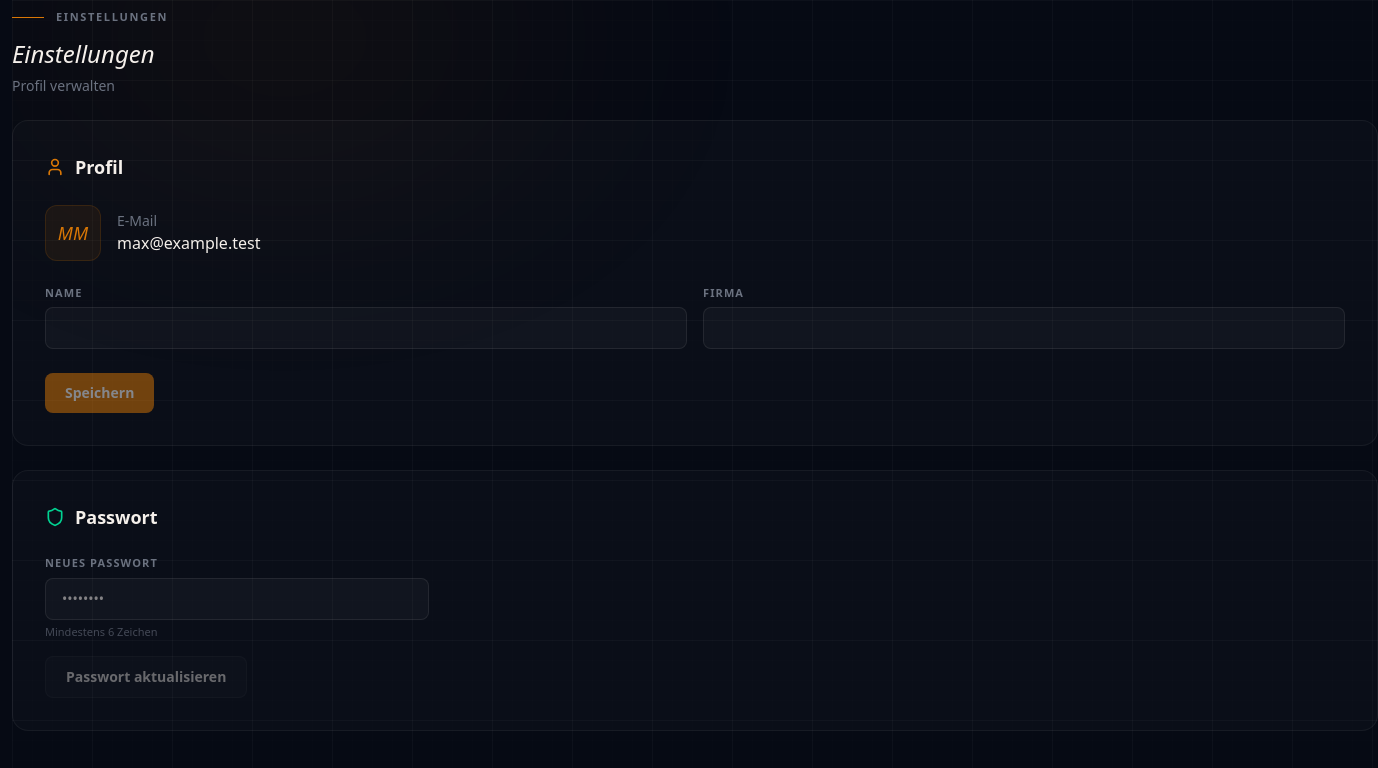
Scenario: settings password feedback › does not show stale success or clear newer edits after a pending password update resolves
This screenshot has width=1378, height=768.
Type "123456" into the password field with placeholder "••••••••" at (237, 599), box [45,578,429,620]
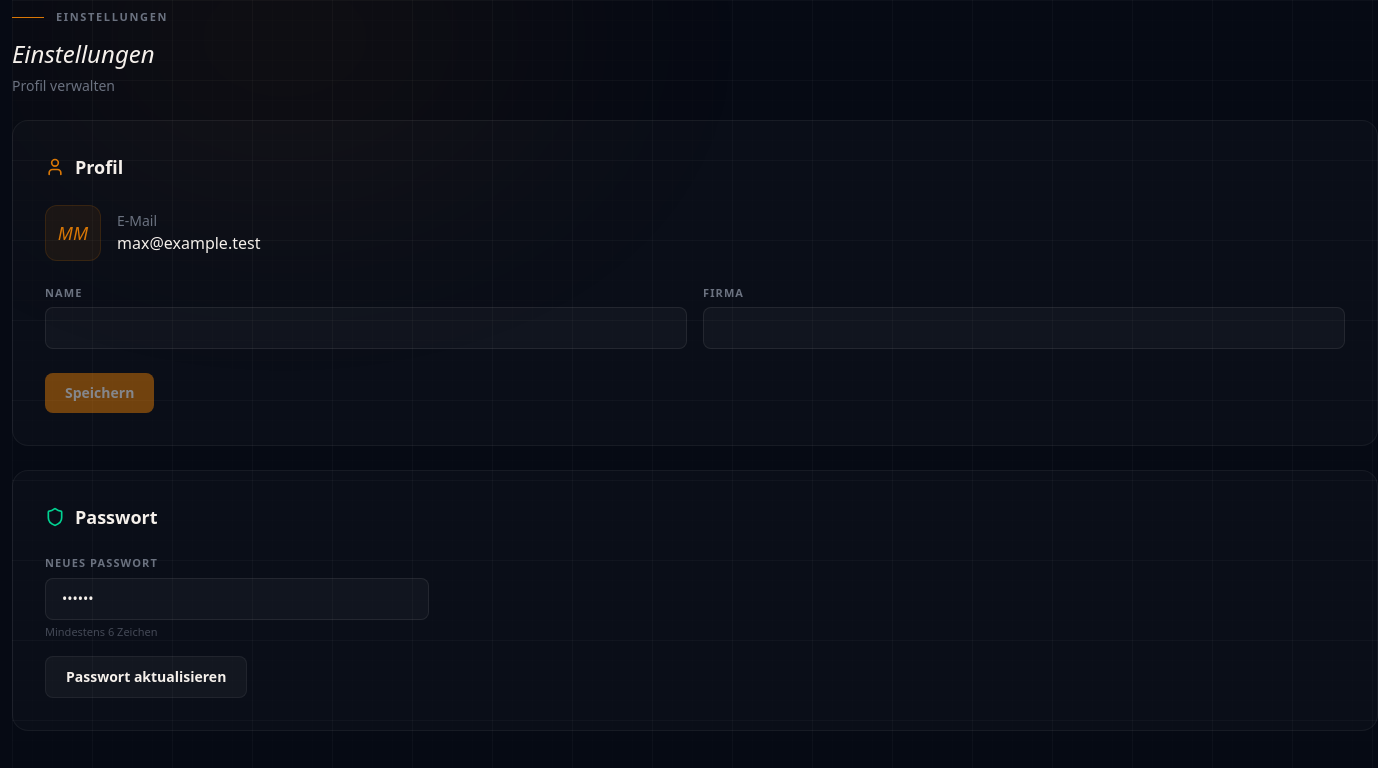
Click the button "Passwort aktualisieren" at (146, 677), box [45,656,247,698]
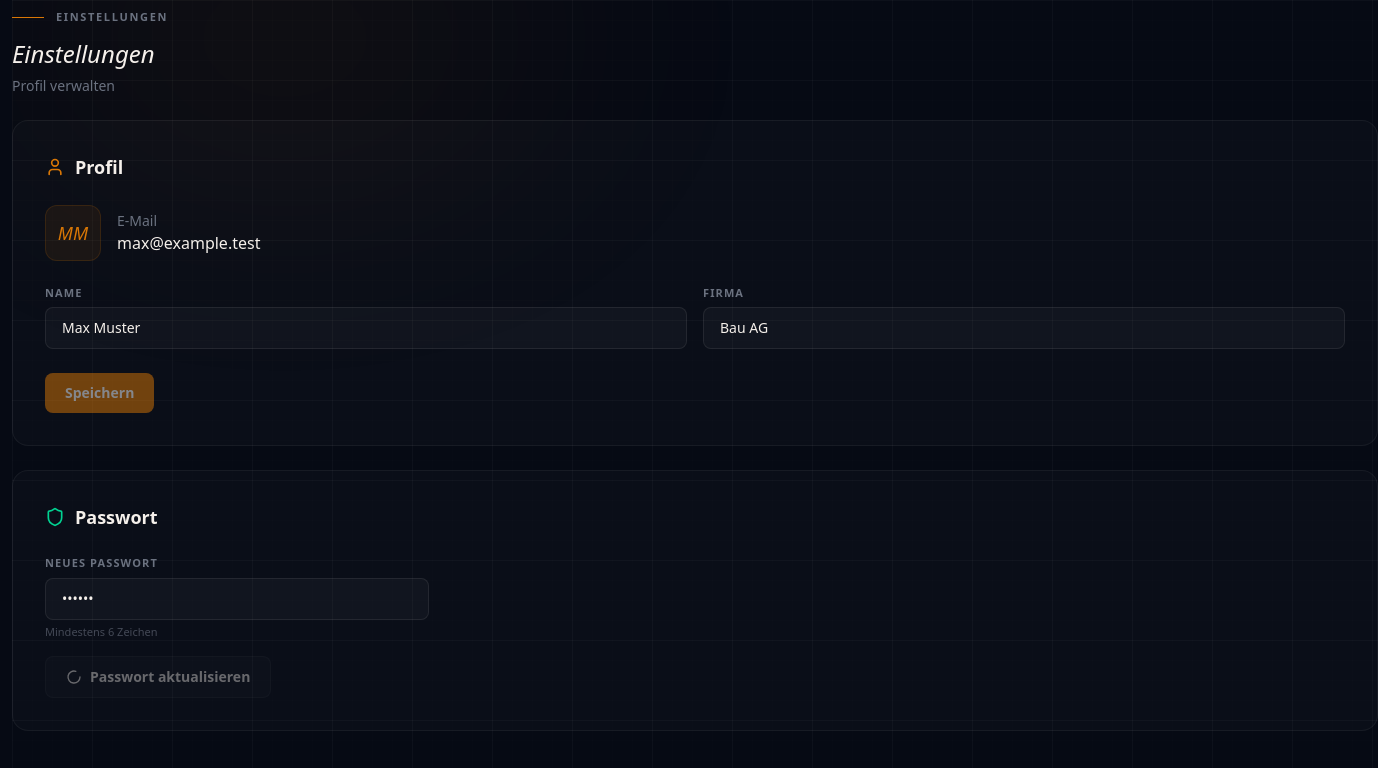
Type "newer-password" into the password field with placeholder "••••••••" at (237, 599), box [45,578,429,620]
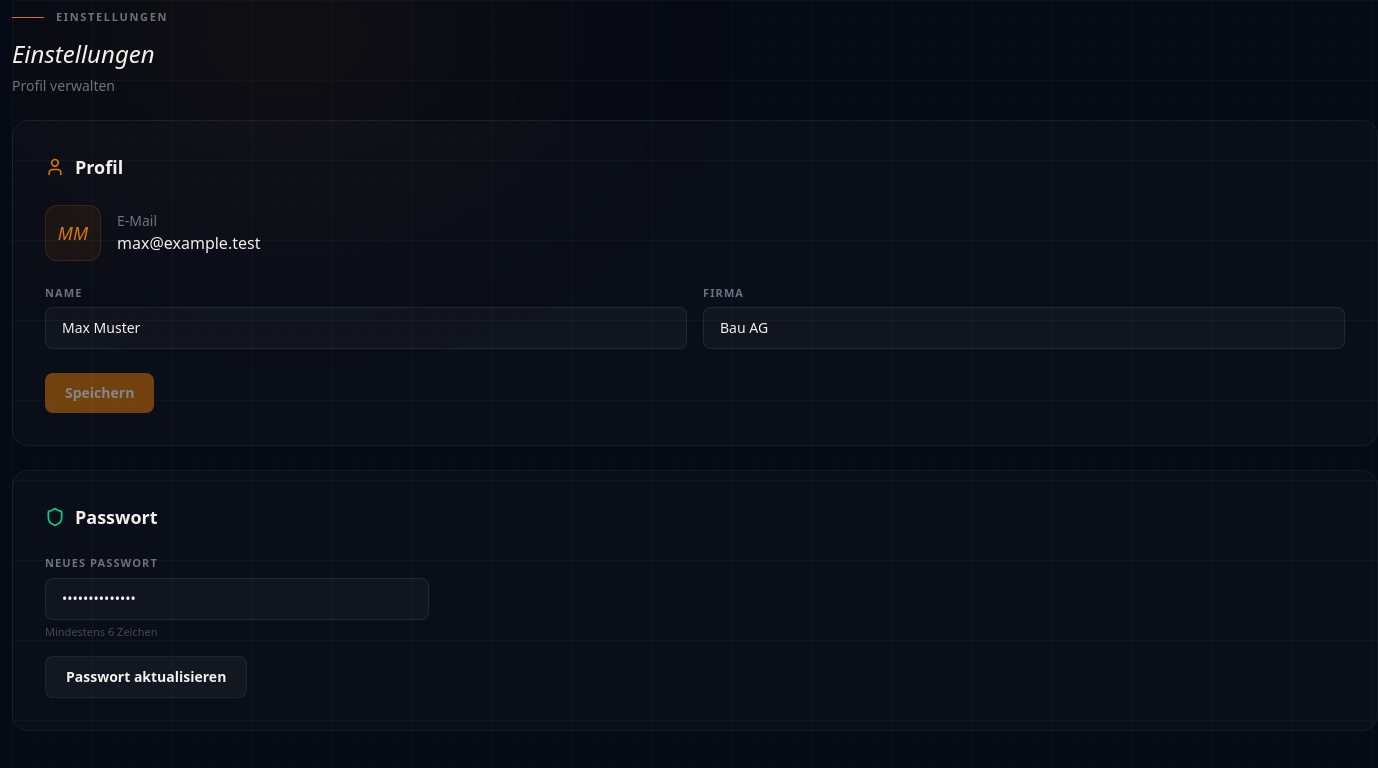
Expected: the button "Passwort aktualisieren" is enabled, [45,656,247,698]
